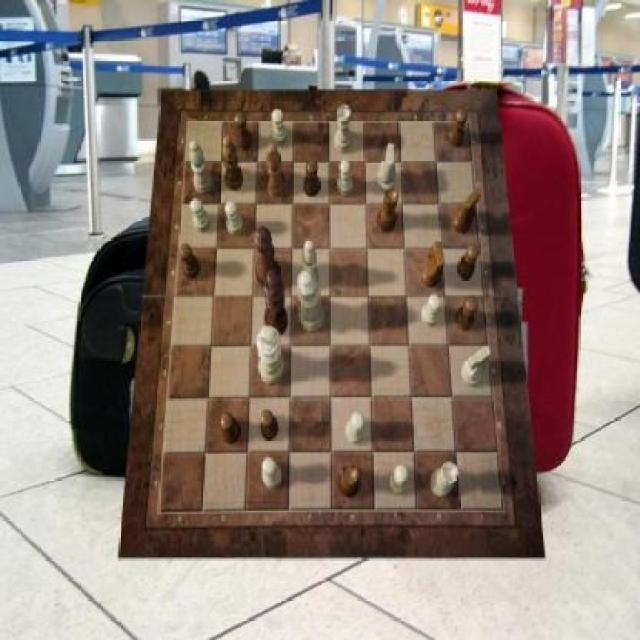bishop: (268, 142, 288, 198), (222, 135, 242, 190)
black-bishop: (263, 269, 288, 337)
black-king: (452, 189, 480, 235), (420, 242, 445, 288)
black-knight: (178, 244, 201, 280), (457, 244, 480, 280), (448, 108, 468, 148), (456, 295, 478, 330), (220, 412, 241, 445), (234, 112, 251, 152), (304, 159, 322, 196), (260, 409, 279, 440)
black-pawn: (251, 226, 281, 290)
black-queen: (377, 188, 400, 233), (337, 463, 360, 498)
black-rook: (190, 140, 212, 194), (300, 240, 319, 289)
white-bishop: (257, 326, 286, 386)
white-king: (462, 345, 492, 386), (377, 143, 397, 194)
white-knight: (190, 198, 212, 232), (224, 202, 243, 236), (263, 457, 283, 489), (389, 464, 409, 496), (422, 294, 442, 326), (272, 109, 288, 147), (346, 412, 364, 445), (337, 159, 353, 196)
white-pawn: (297, 269, 324, 332)
white-queen: (431, 462, 458, 496), (334, 106, 351, 154)
